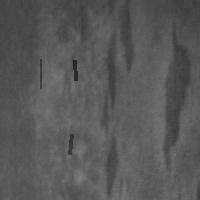inclusion: (98, 1, 136, 198), (160, 16, 194, 175), (74, 1, 93, 46), (67, 132, 73, 156), (38, 57, 42, 90), (72, 58, 77, 82)
